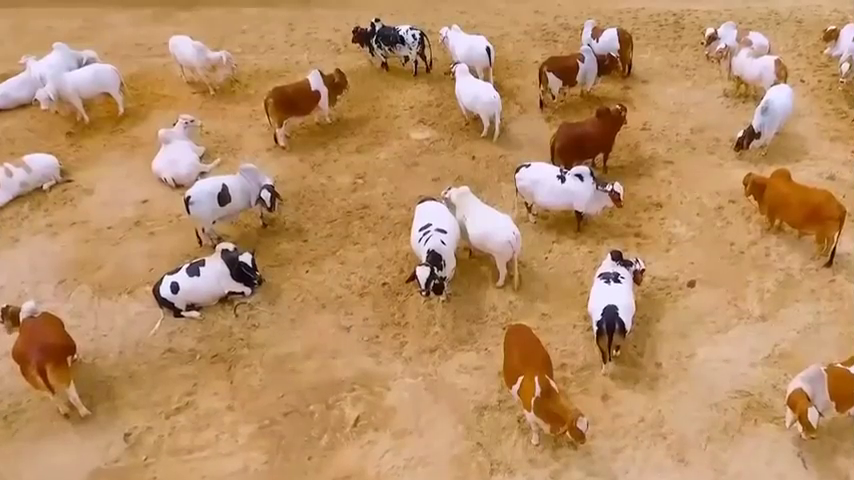bo: (491, 319, 590, 457), (2, 293, 95, 430), (132, 238, 273, 325), (733, 163, 849, 265), (504, 150, 635, 235), (441, 166, 524, 290), (581, 241, 653, 377), (775, 334, 854, 443), (178, 157, 276, 234), (398, 186, 458, 307), (154, 20, 242, 101), (268, 64, 350, 145), (546, 98, 635, 169), (726, 83, 803, 163), (142, 109, 214, 194), (439, 66, 518, 142), (529, 37, 615, 102), (348, 13, 432, 79), (695, 10, 781, 68), (37, 68, 125, 124), (4, 141, 70, 211), (576, 12, 648, 72), (712, 45, 788, 96), (437, 18, 498, 79), (31, 30, 101, 83), (2, 43, 44, 121), (816, 23, 854, 79)
